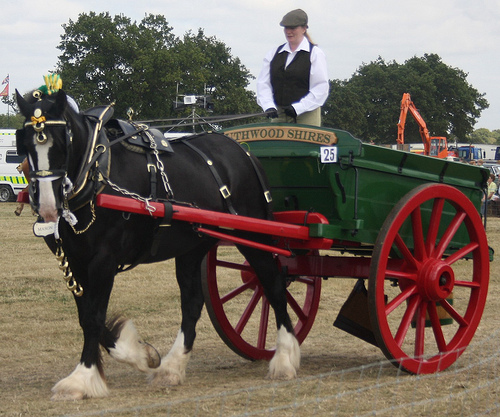horse: (10, 77, 299, 399)
